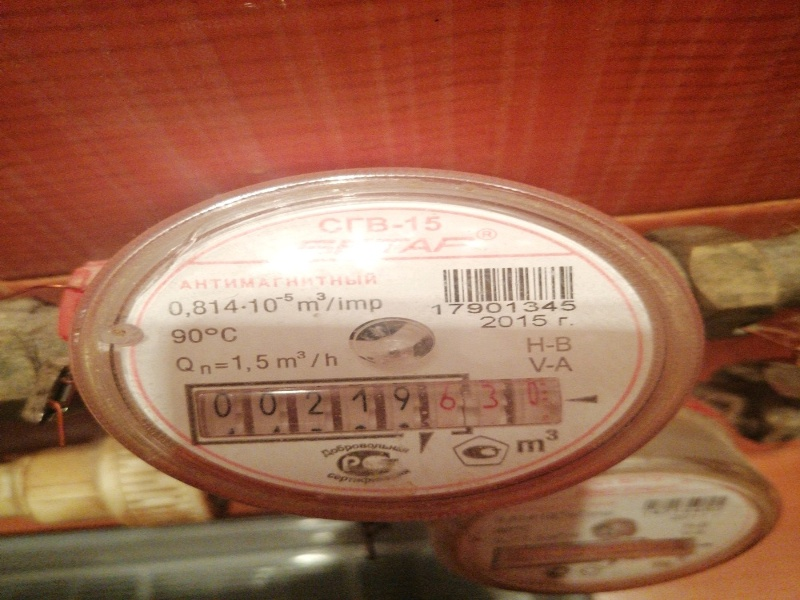meter: (184, 374, 569, 430)
